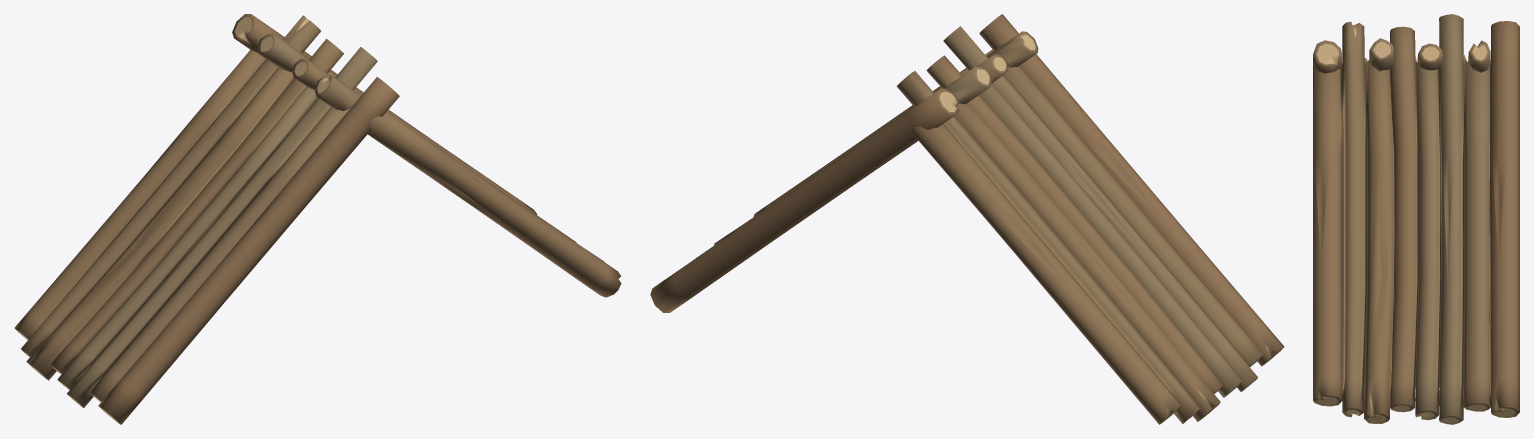
File: rpgpp_ag_roof_01a_6x3x3.fbx
3 views of the same model, side by side, from view 1: azimuth 30°, elevation 25°; view 2: azimuth 150°, elevation 25°; view 3: azimuth 270°, elevation 25° (orthographic). The views are drawn at different scales.
Visible parts, largest first — view 1: rpgpp_ag_roof_01a_6x3x3; view 2: rpgpp_ag_roof_01a_6x3x3; view 3: rpgpp_ag_roof_01a_6x3x3.
Boxes of the visible parts, x1=… form: rpgpp_ag_roof_01a_6x3x3: x1=14, y1=14, x2=621, y2=424; rpgpp_ag_roof_01a_6x3x3: x1=650, y1=14, x2=1284, y2=424; rpgpp_ag_roof_01a_6x3x3: x1=1313, y1=14, x2=1519, y2=424.
Bounding box in the file's own units: 8.61 × 4.49 × 3.
